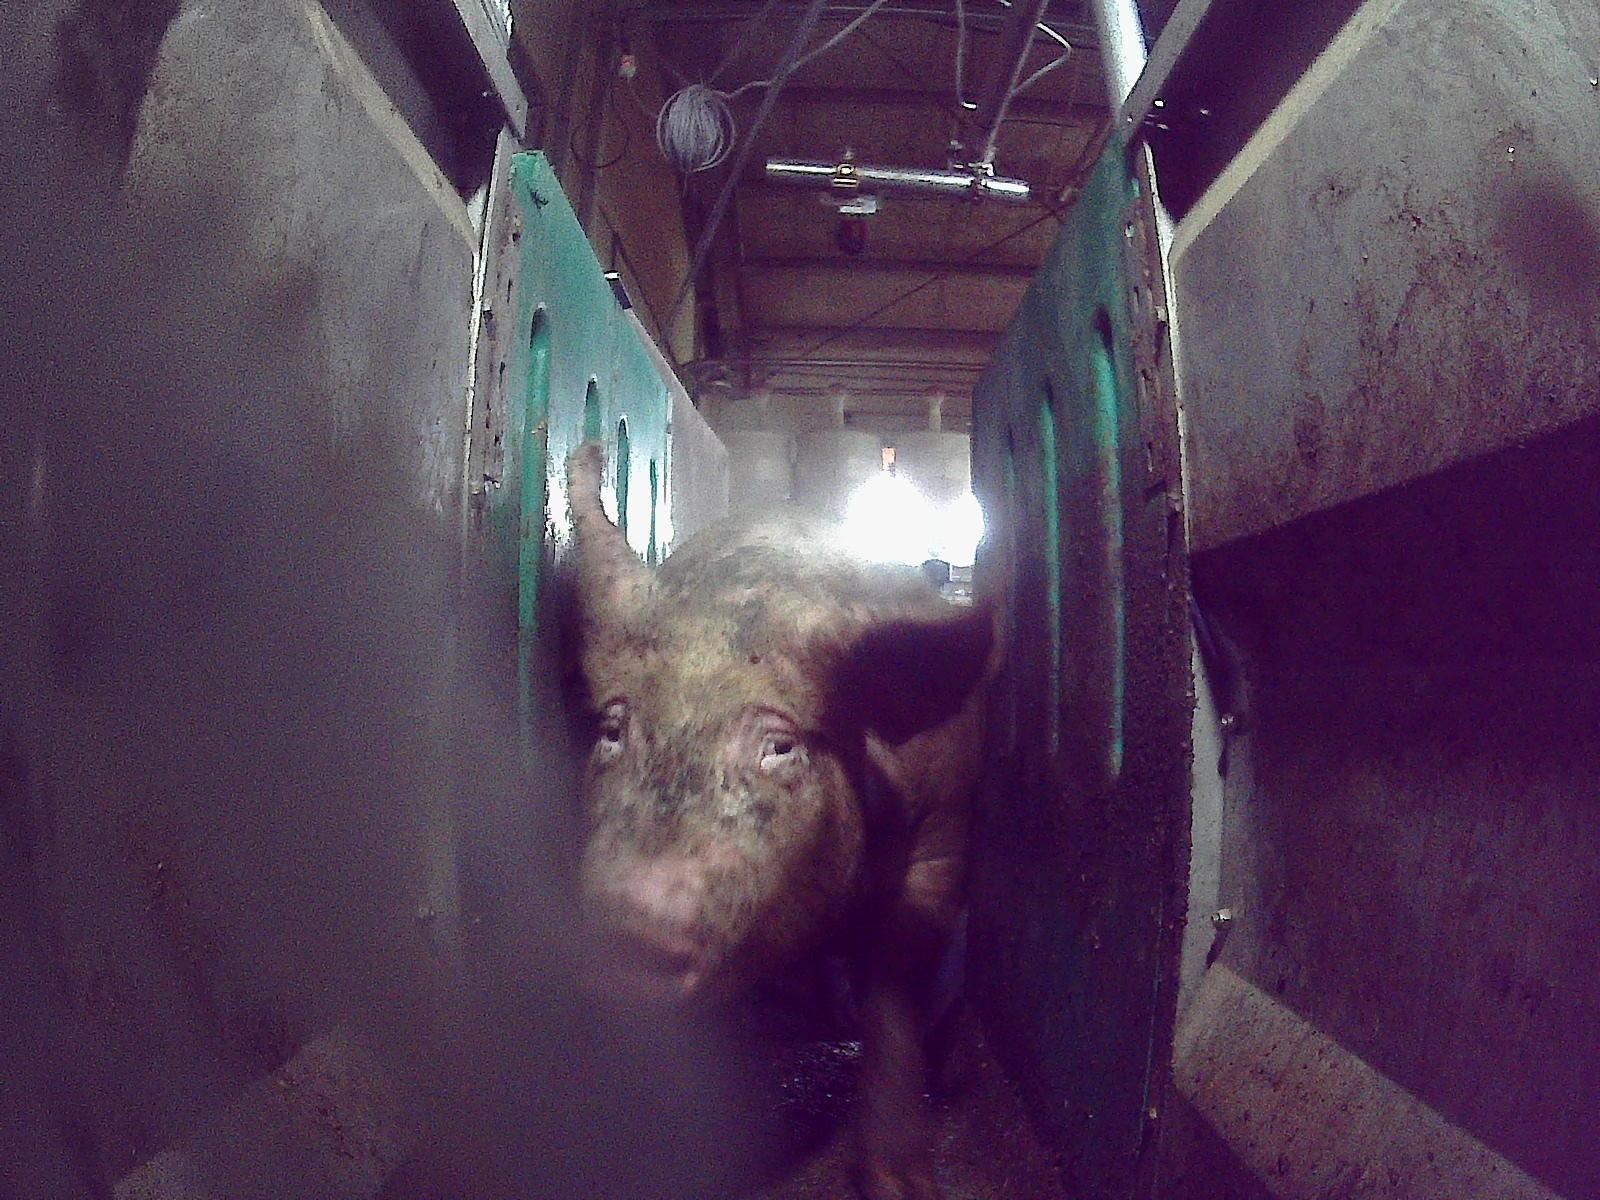Face: (565, 622, 864, 1013)
